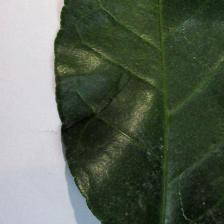healthy: (55, 0, 224, 224)
